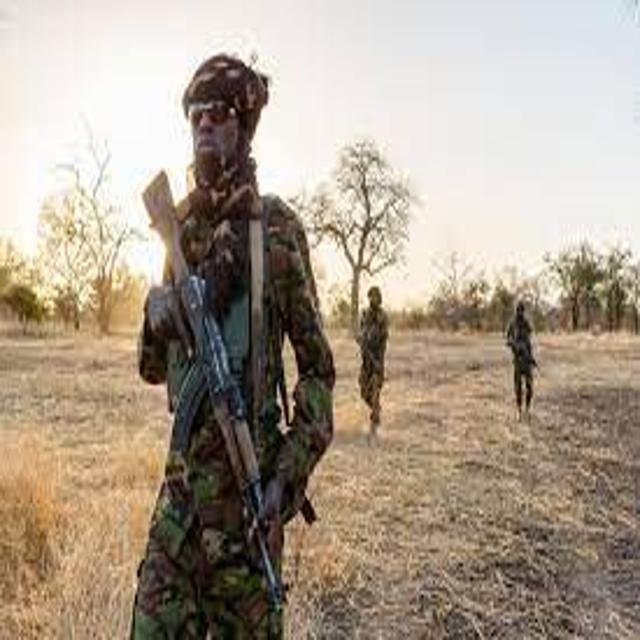gun: (110, 153, 338, 625), (498, 322, 553, 388)
ranger: (76, 19, 396, 640), (337, 261, 430, 459), (473, 270, 578, 444)
